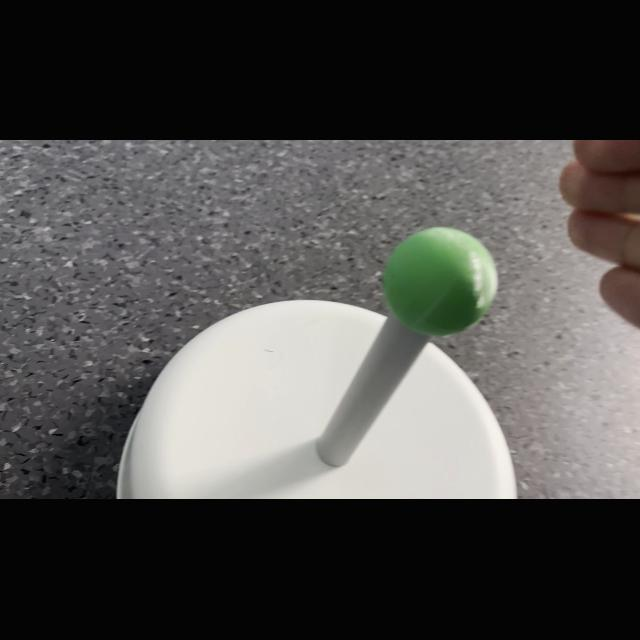objects: (372, 220, 508, 340)
